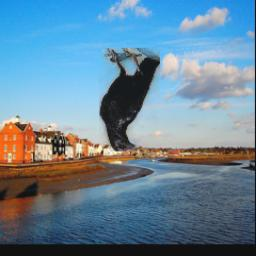Crow: (100, 48, 161, 151)
